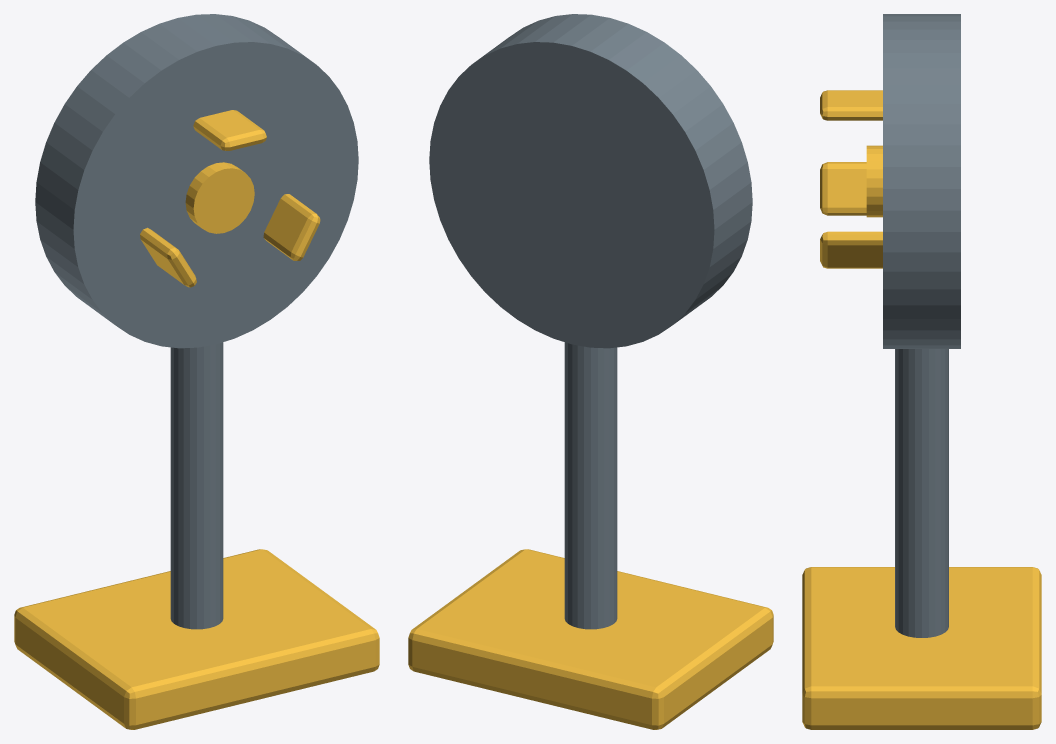
Rendered from Fan.fbx.
3 renders of one model, left to right at view 1: azimuth 30°, elevation 25°; view 2: azimuth 150°, elevation 25°; view 3: azimuth 270°, elevation 25°, orthographic.
Visible parts, largest first — view 1: Housing, FanBase, FanStand, Rotor, Blade.001, Blade, Blade.002; view 2: Housing, FanBase, FanStand; view 3: FanBase, Housing, FanStand, Blade.002, Blade.001, Blade, Rotor.
Part boxes in pixels (x1=…): Housing: x1=35, y1=14, x2=358, y2=348; FanBase: x1=14, y1=549, x2=379, y2=729; FanStand: x1=170, y1=342, x2=223, y2=629; Rotor: x1=185, y1=162, x2=254, y2=233; Blade.001: x1=263, y1=194, x2=320, y2=260; Blade: x1=193, y1=110, x2=266, y2=150; Blade.002: x1=140, y1=227, x2=196, y2=287; Housing: x1=429, y1=14, x2=752, y2=348; FanBase: x1=408, y1=549, x2=773, y2=729; FanStand: x1=564, y1=342, x2=617, y2=629; FanBase: x1=802, y1=567, x2=1041, y2=729; Housing: x1=883, y1=14, x2=960, y2=348; FanStand: x1=895, y1=349, x2=948, y2=637; Blade.002: x1=820, y1=162, x2=866, y2=215; Blade.001: x1=820, y1=231, x2=882, y2=268; Blade: x1=820, y1=90, x2=882, y2=120; Rotor: x1=866, y1=145, x2=882, y2=217.
Bounding box in the file's own units: 56 × 118 × 40.
